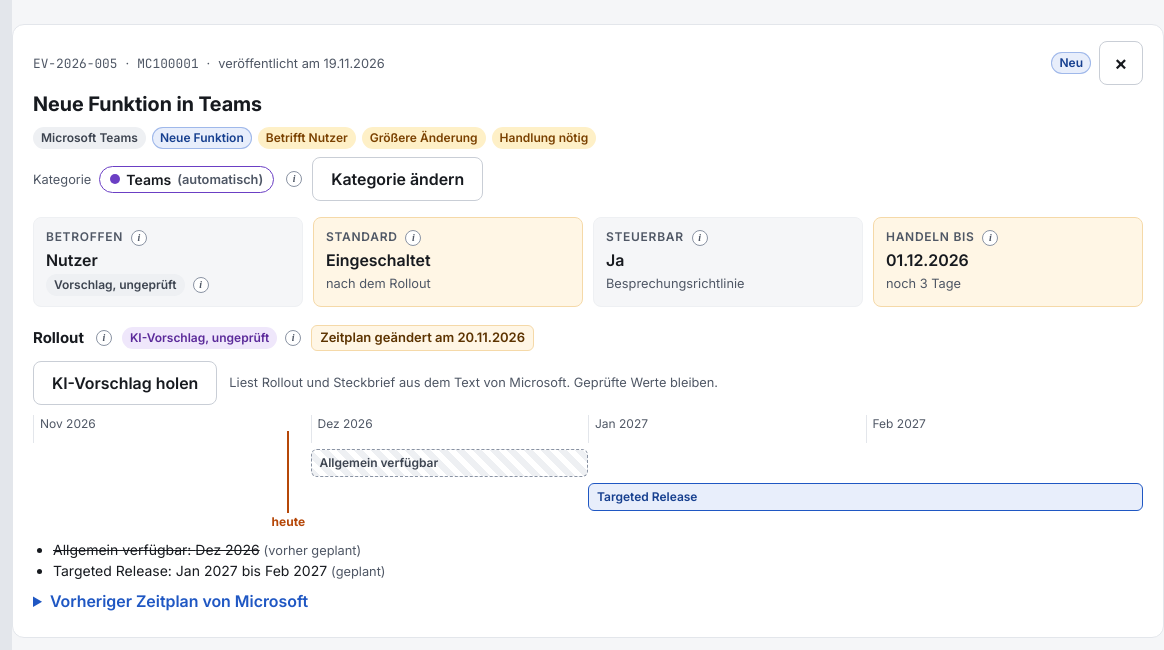
Test: EntriesPage › holt als Bearbeiter einen KI-Vorschlag und setzt die Maske neu auf
Step 1. Click the button "KI-Vorschlag holen" → click(125, 383), box [33, 361, 217, 405]
(page scrolled)
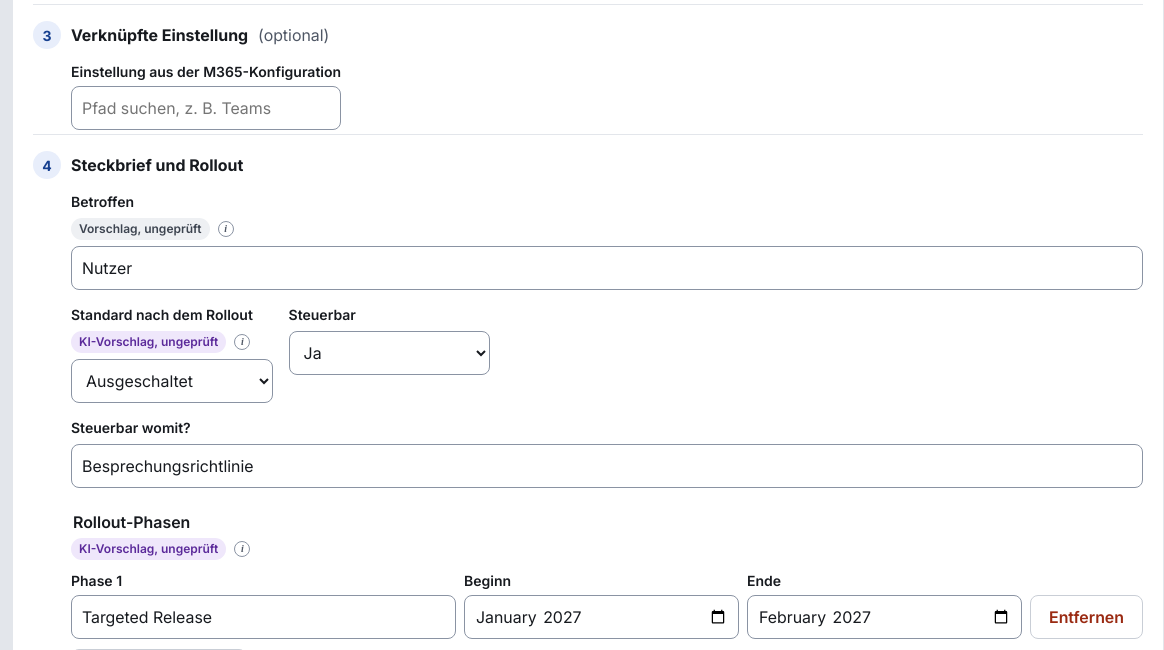
Result: the dropdown labelled "Standard nach dem Rollout" shows "Ausgeschaltet" at [71, 359, 273, 403]
